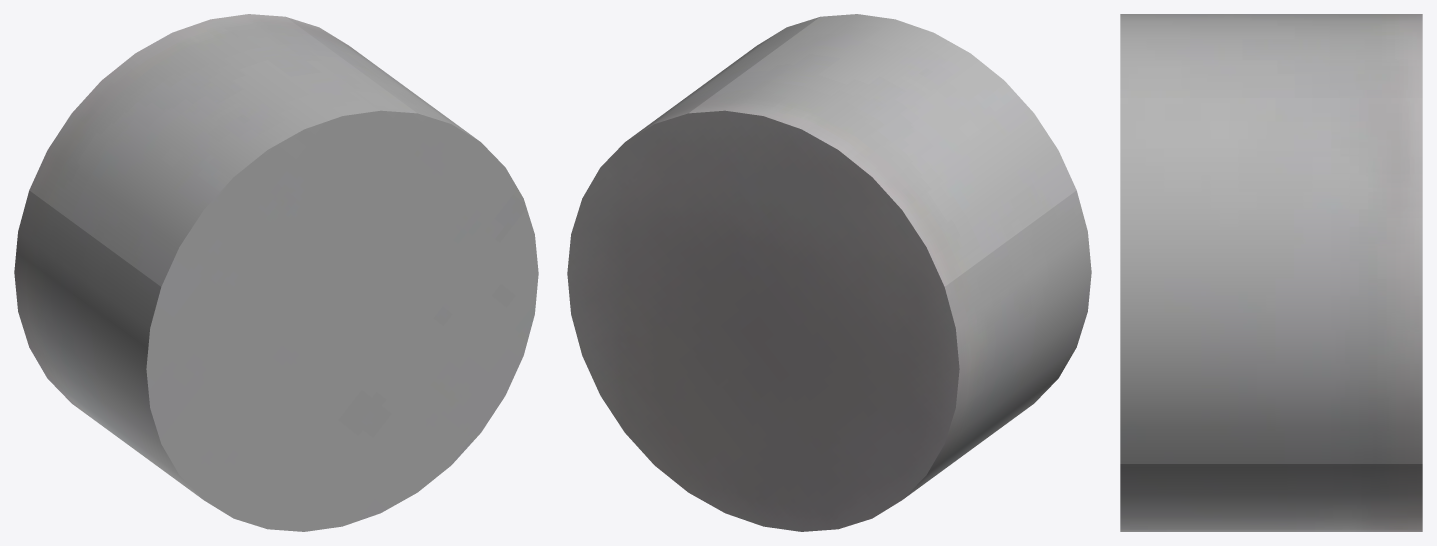
File: release_button__button_cap.glb
The picture shows the model from 3 angles, left to right: view 1: azimuth 30°, elevation 25°; view 2: azimuth 150°, elevation 25°; view 3: azimuth 270°, elevation 25°; orthographic projection. The views are drawn at different scales.
Parts seen in each view (by area): view 1: geometry_0; view 2: geometry_0; view 3: geometry_0.
Part boxes in pixels (left/top/right/bottom): geometry_0: left=14, top=14, right=538, bottom=531; geometry_0: left=567, top=14, right=1091, bottom=531; geometry_0: left=1120, top=14, right=1422, bottom=531.
Size of the model in its own units: 0.024 by 0.024 by 0.014.
Materials: 1 (1 with a texture image).
